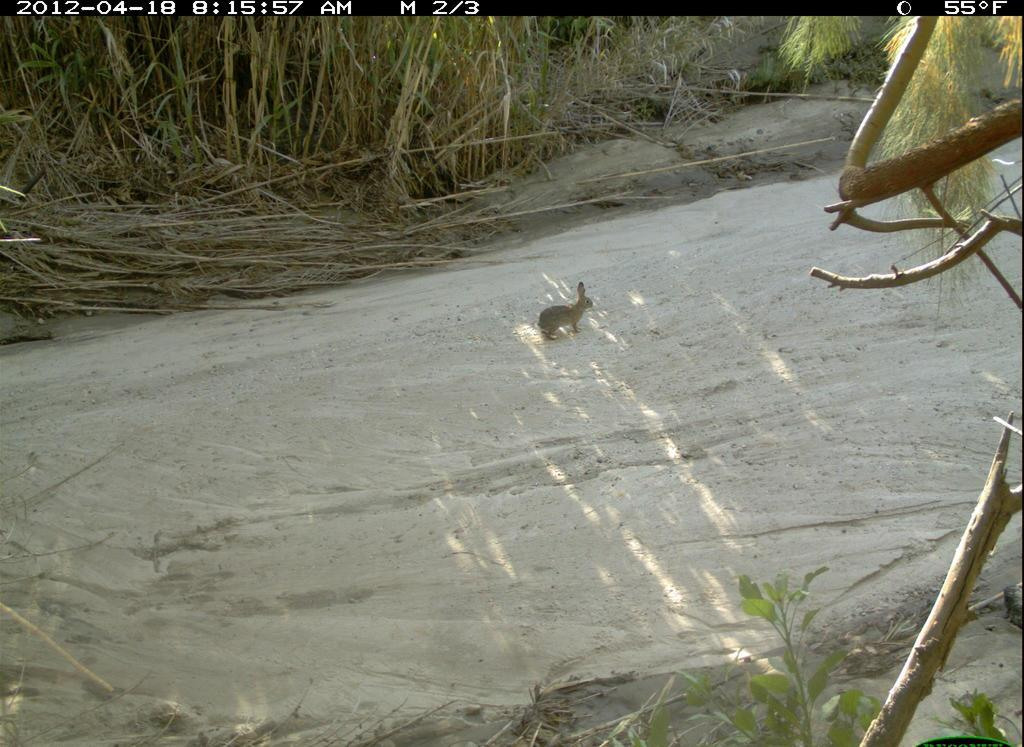rabbit: (532, 269, 598, 345)
